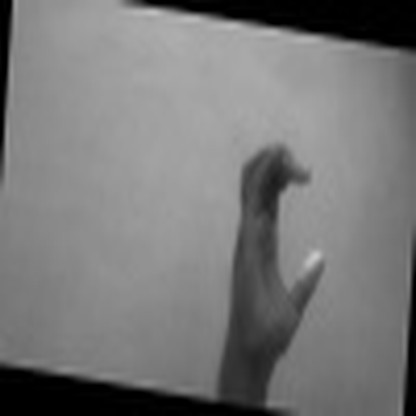c: (226, 120, 329, 346)
